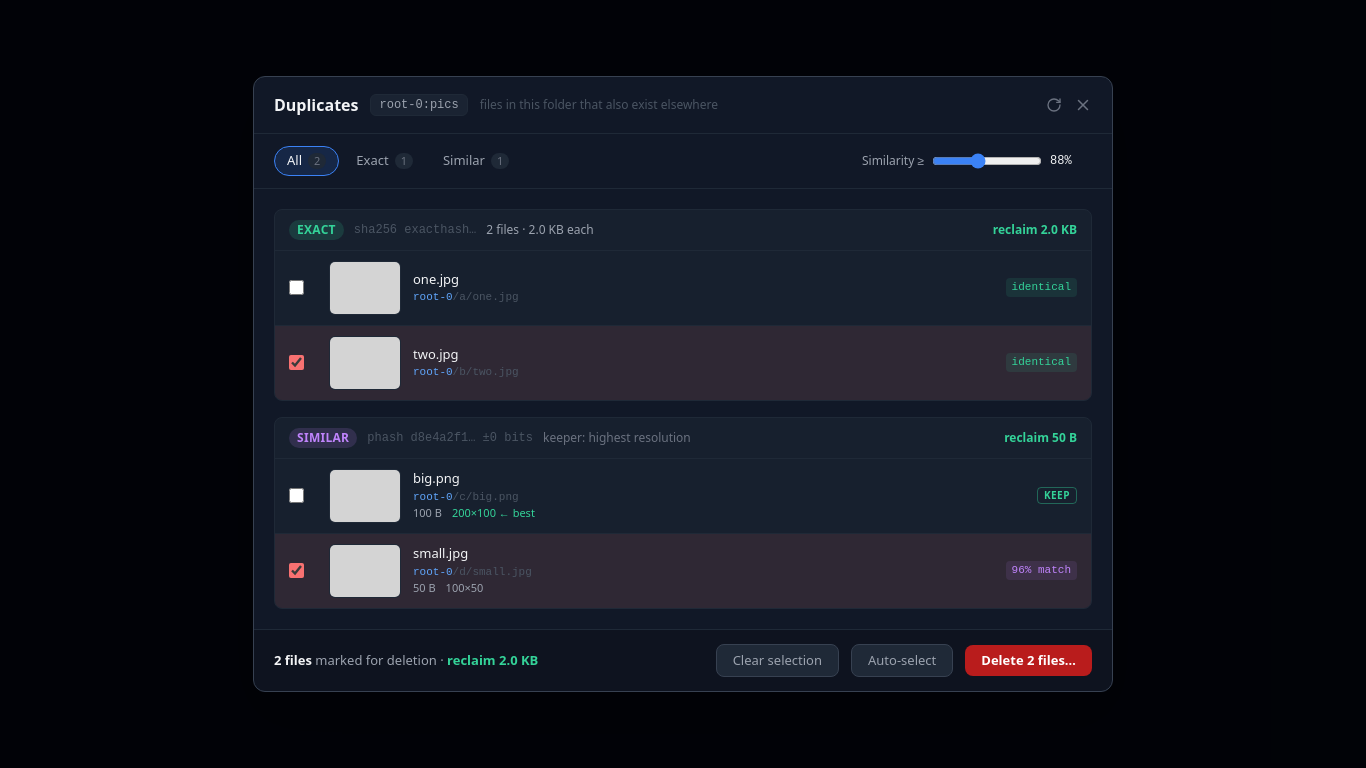
DuplicatesModal › filters groups by tab
expect the text "one.jpg" is shown: met, box x1=413 y1=270 x2=459 y2=288
expect the text "big.png" is shown: met, box x1=413 y1=469 x2=460 y2=487
// Exact tab hides the phash group.
Click the button "Exact 1". click: click(385, 161)
box: x1=343 y1=146 x2=426 y2=176
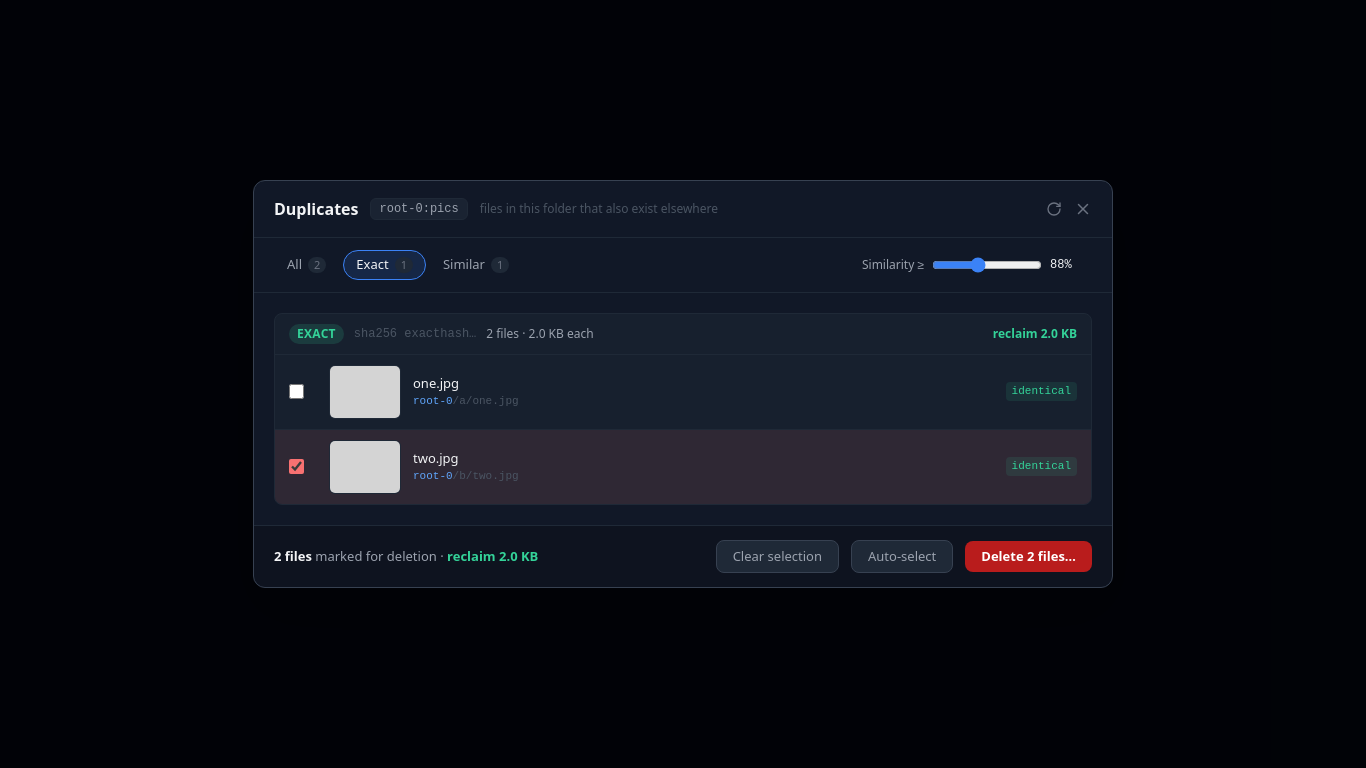
expect the text "one.jpg" is shown: met, box x1=413 y1=374 x2=459 y2=392
expect the text "big.png" is gone: met
// Similar tab hides the exact group.
Click the button "Similar 1". click: click(476, 265)
box: x1=430 y1=250 x2=522 y2=280
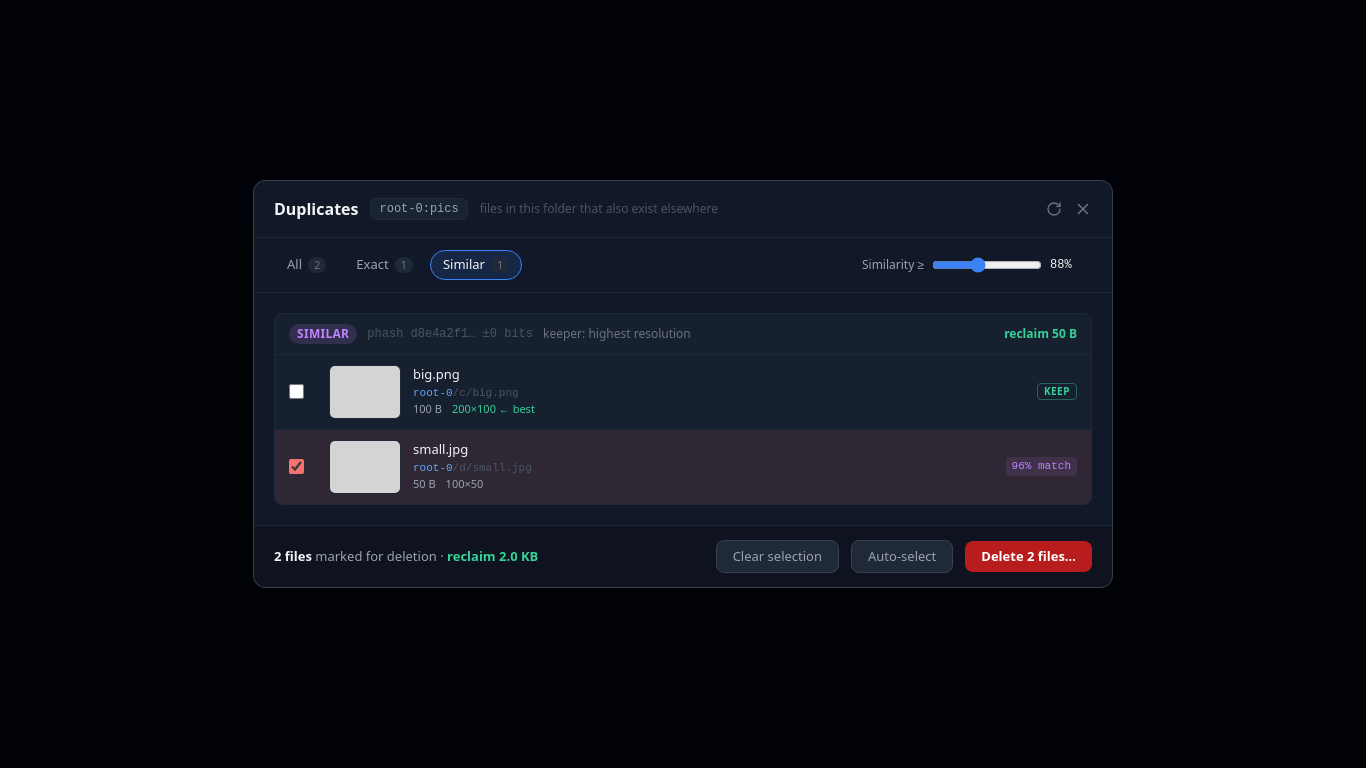
expect the text "one.jpg" is gone: met
expect the text "big.png" is shown: met, box x1=413 y1=365 x2=460 y2=383
